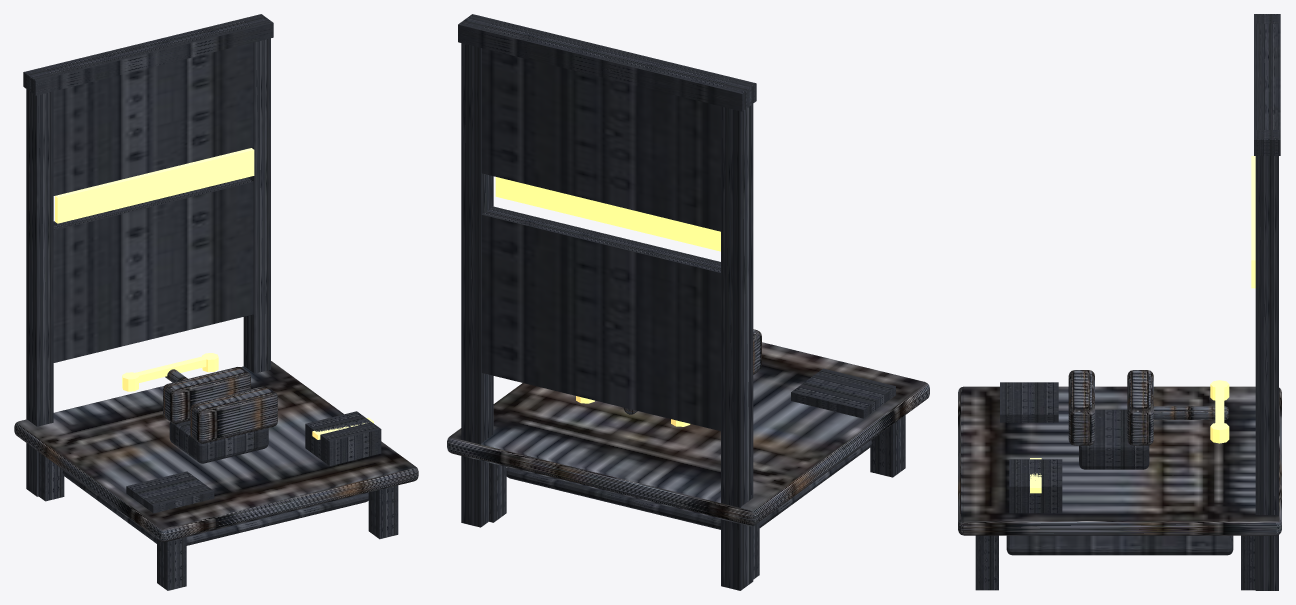
File: armory_vise.glb
3 views of the same model, side by side, from view 1: azimuth 30°, elevation 25°; view 2: azimuth 150°, elevation 25°; view 3: azimuth 270°, elevation 25° (orthographic). The views are drawn at different scales.
Visible parts, largest first — view 1: sight_shell, top, sightglow, jaw0, parts, jaw1, shelf, pan, visebase, leg20, leg00, leg02 (+1 smaller); view 2: sight_shell, top, sightglow, shelf, pan, leg00, leg22; view 3: top, sight_shell, shelf, visebase, parts, pan, jaw1, jaw0, leg20, screw, leg22, sightglow.
Boxes of the visible parts, box(x1,y1,x2,y2) form: sight_shell: box(23, 14, 273, 496); top: box(14, 361, 418, 541); sightglow: box(55, 148, 254, 223); jaw0: box(190, 386, 277, 443); parts: box(305, 411, 381, 465); jaw1: box(163, 367, 250, 423); shelf: box(62, 470, 368, 545); pan: box(126, 471, 214, 513); visebase: box(169, 420, 268, 463); leg20: box(368, 485, 398, 539); leg00: box(157, 537, 186, 590); leg02: box(38, 452, 64, 501); sight_shell: box(458, 14, 756, 590); top: box(447, 342, 929, 526); sightglow: box(495, 177, 720, 251); shelf: box(506, 440, 871, 529); pan: box(791, 368, 895, 418); leg00: box(870, 415, 905, 477); leg22: box(489, 462, 506, 522); top: box(958, 386, 1281, 535); sight_shell: box(1254, 14, 1280, 590); shelf: box(1006, 535, 1233, 555); visebase: box(1079, 409, 1149, 469); parts: box(1009, 459, 1062, 513); pan: box(1000, 382, 1058, 422); jaw1: box(1127, 370, 1153, 445); jaw0: box(1068, 370, 1094, 445); leg20: box(975, 535, 998, 590); screw: box(1153, 406, 1228, 419); leg22: box(1241, 535, 1255, 590); sightglow: box(1251, 156, 1255, 288).
Size of the model in its own units: 1.1 by 1.7 by 1.1.
5 materials, 3 textured.
